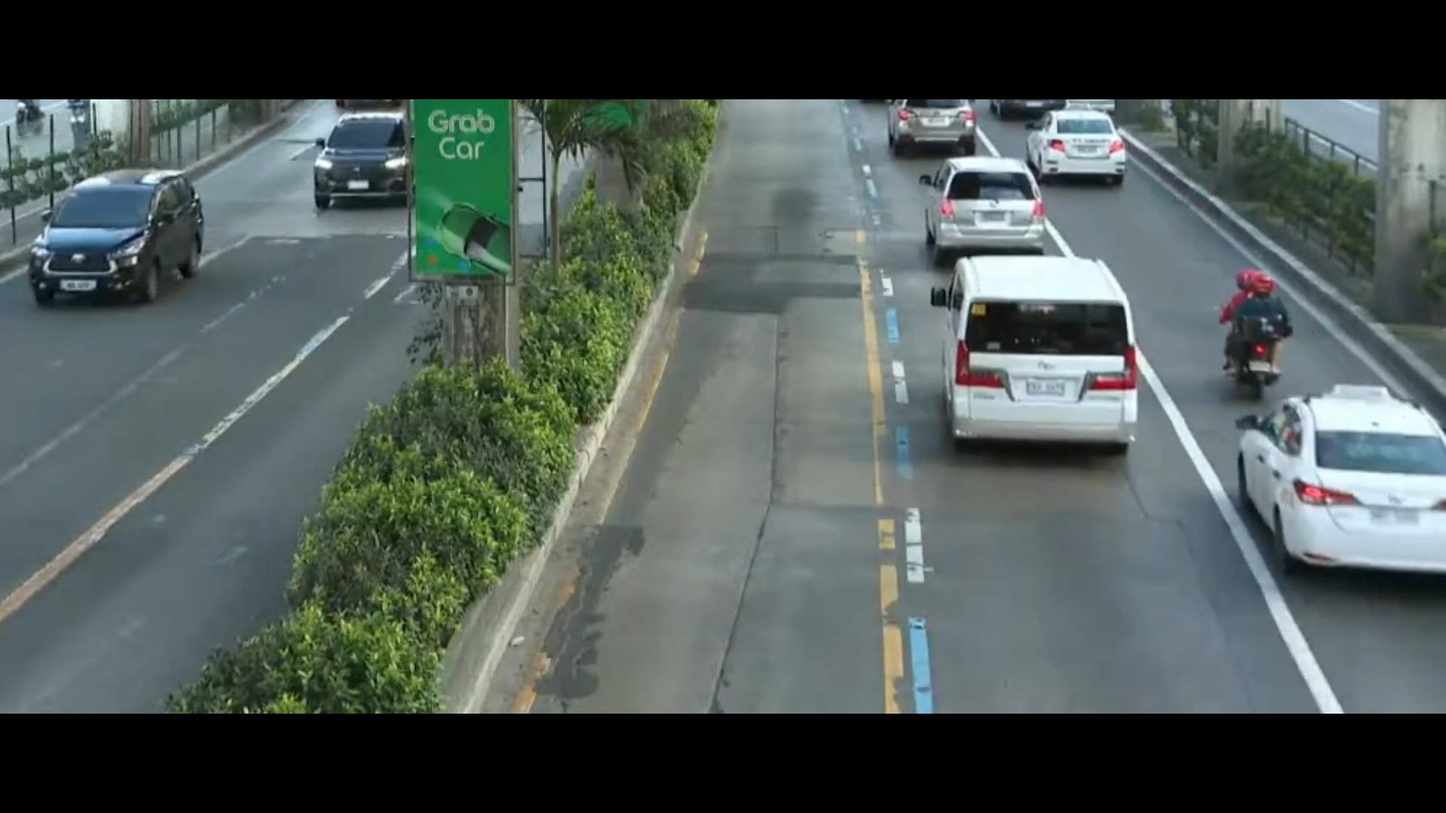Motorcycle: (1203, 258, 1316, 413)
SUV: (13, 155, 221, 336), (900, 149, 1062, 259), (307, 100, 414, 209), (873, 96, 996, 155)
Sedan: (1224, 362, 1446, 593), (1016, 110, 1132, 188)
Van: (919, 254, 1179, 477)
